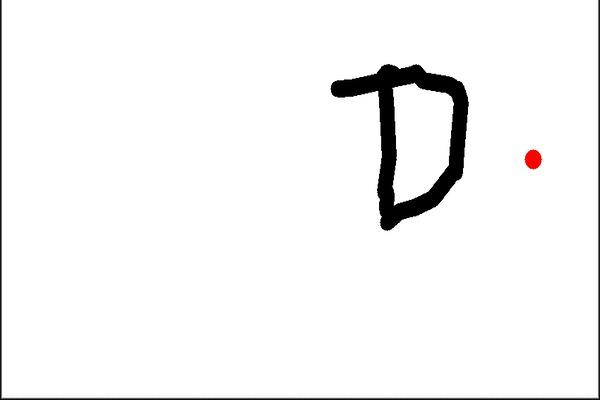D: (325, 60, 474, 232)
